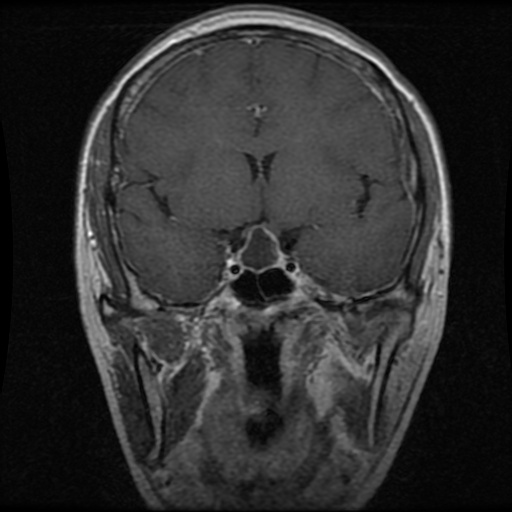pituitary: (236, 221, 285, 272)
